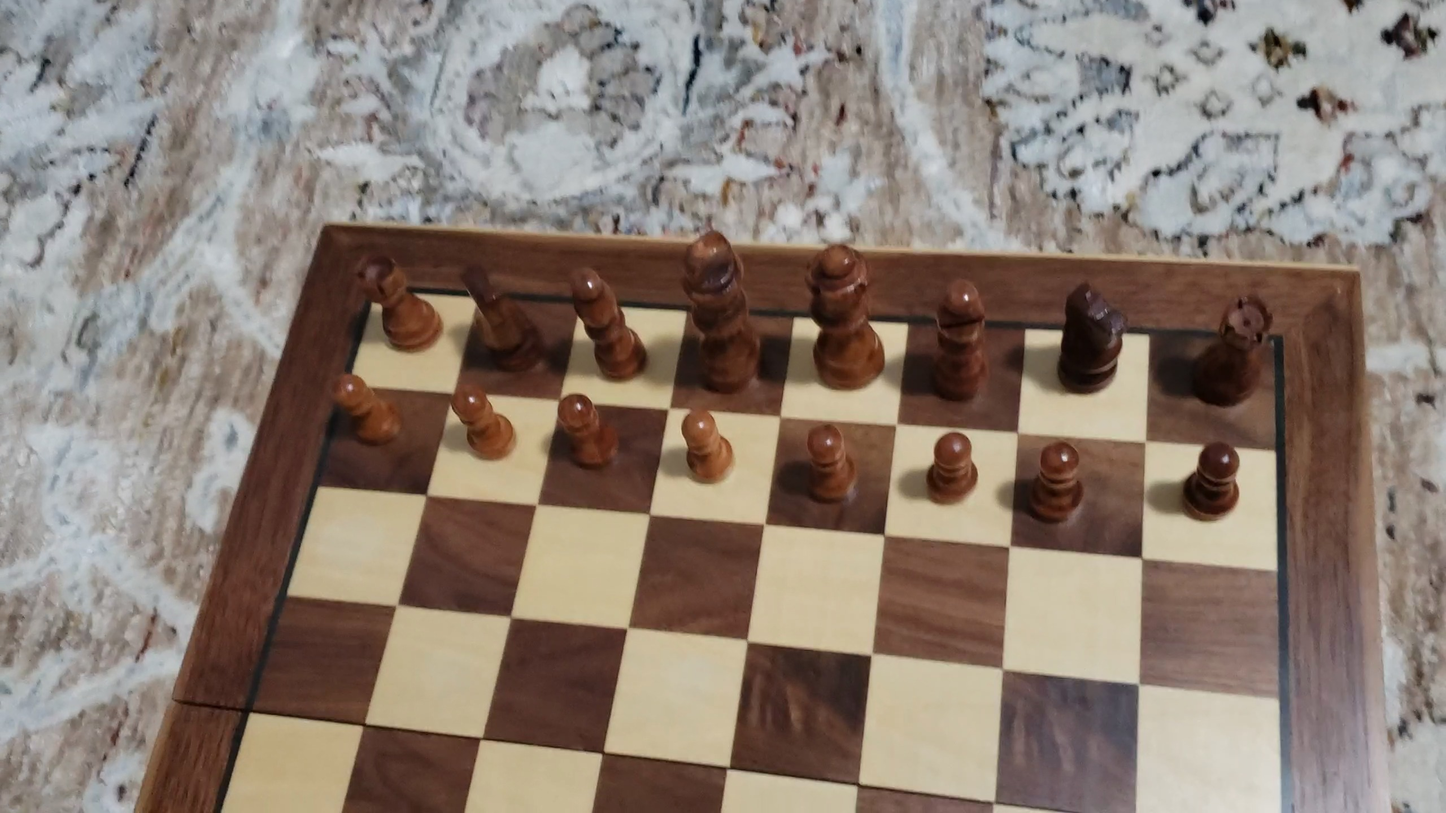black-bishop: (568, 262, 647, 382), (929, 276, 991, 403)
black-king: (677, 225, 764, 395)
black-knight: (459, 261, 545, 373), (1054, 278, 1128, 392)
black-pawn: (326, 371, 404, 449), (1178, 439, 1246, 525), (1024, 438, 1088, 528), (448, 383, 517, 464), (554, 390, 617, 473), (802, 419, 859, 505), (678, 404, 736, 487), (923, 429, 981, 509)
black-queen: (802, 239, 887, 391)
black-rook: (1186, 294, 1277, 409), (355, 252, 444, 353)
